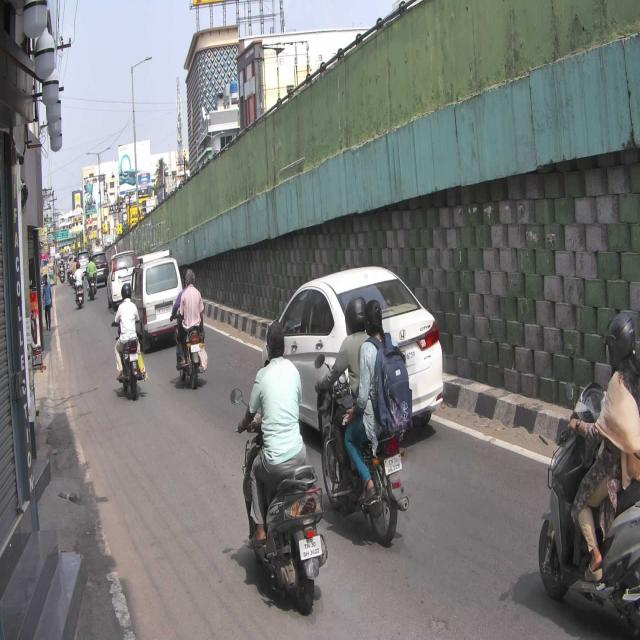double_rider: (330, 287, 412, 545)
single_rider: (538, 313, 640, 629), (232, 319, 326, 613)
